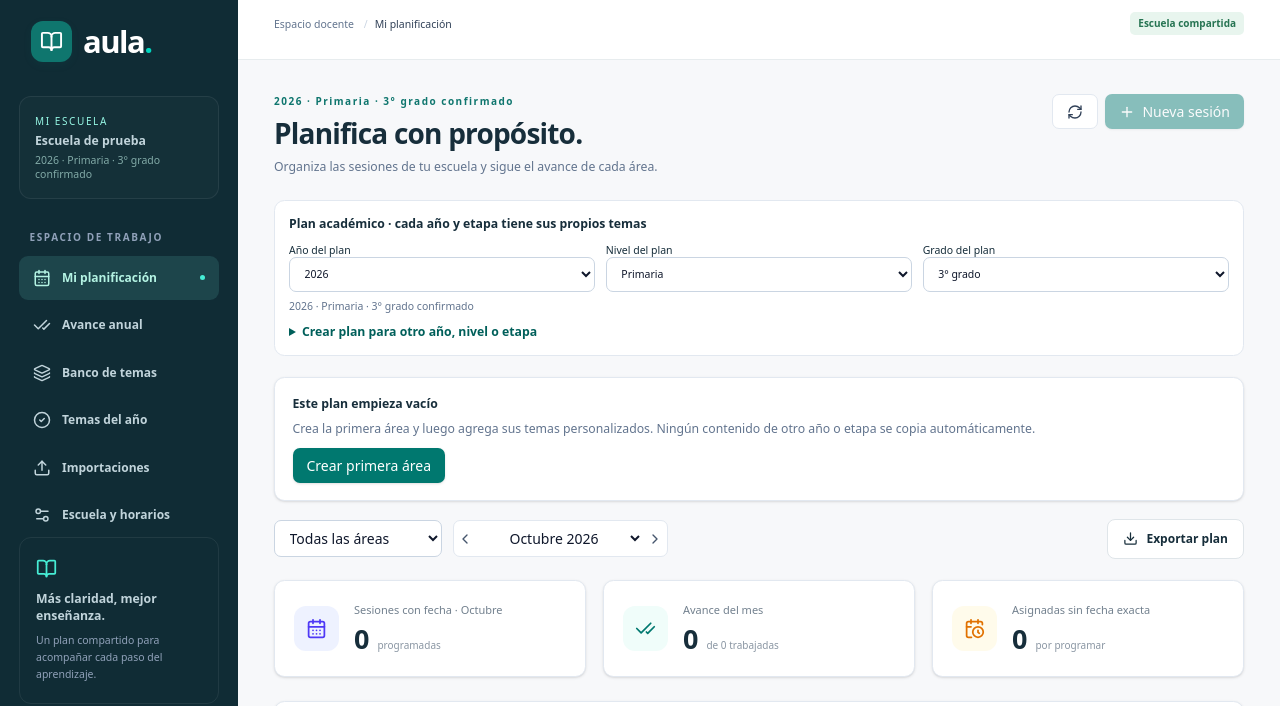
Test: shows an empty annual catalog without inventing a percentage
Check: the heading "Este plan empieza vacío" is shown, box 292,395 -> 438,412
Click the button "Avance anual": (119, 325) 19,303 -> 219,347
(page scrolled)
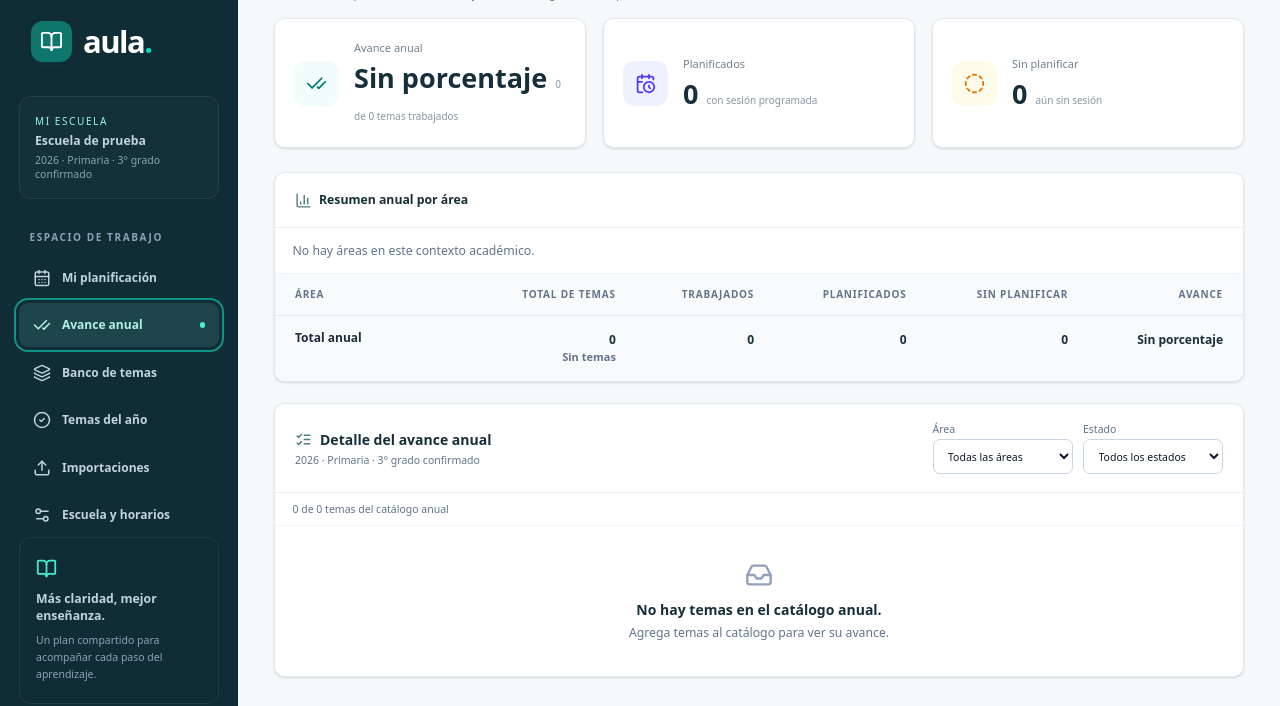
Check: the heading "No hay temas en el catálogo anual." is shown, box 636,600 -> 882,619
Check: the text "No hay áreas en este contexto académico." is shown, box 275,228 -> 1243,274
Check: the text "Sin porcentaje" is shown, box 1088,316 -> 1243,381
